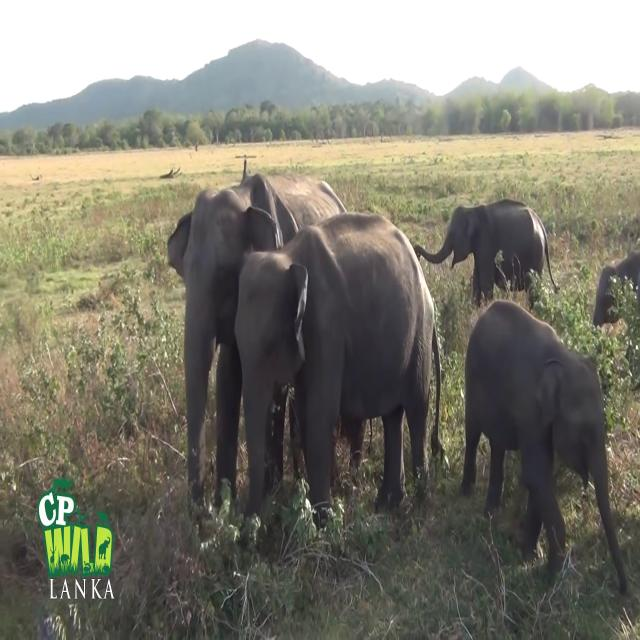Elephant: (234, 210, 441, 531), (167, 165, 348, 512), (460, 298, 627, 595), (413, 197, 559, 310)
